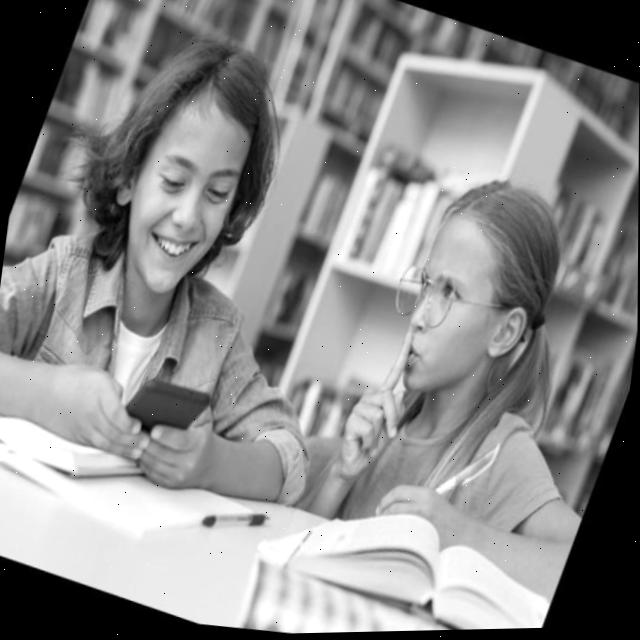phone: (118, 366, 217, 452)
